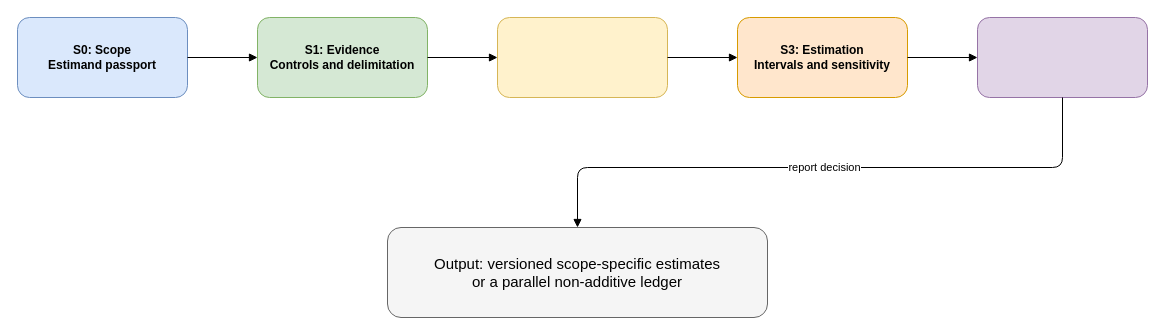
Image size: 1165x335. Some labels were removed from this diagram. The centre of each missing label's shape, as x and y in pixels:
S2: Coverage Detection and unseen units: the point at 582,57
S4: Integration Add only when gates pass: the point at 1062,57
